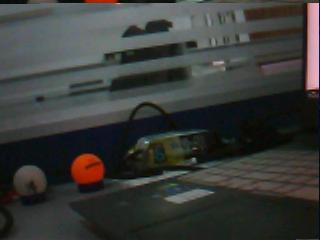oball: (72, 155, 104, 181)
